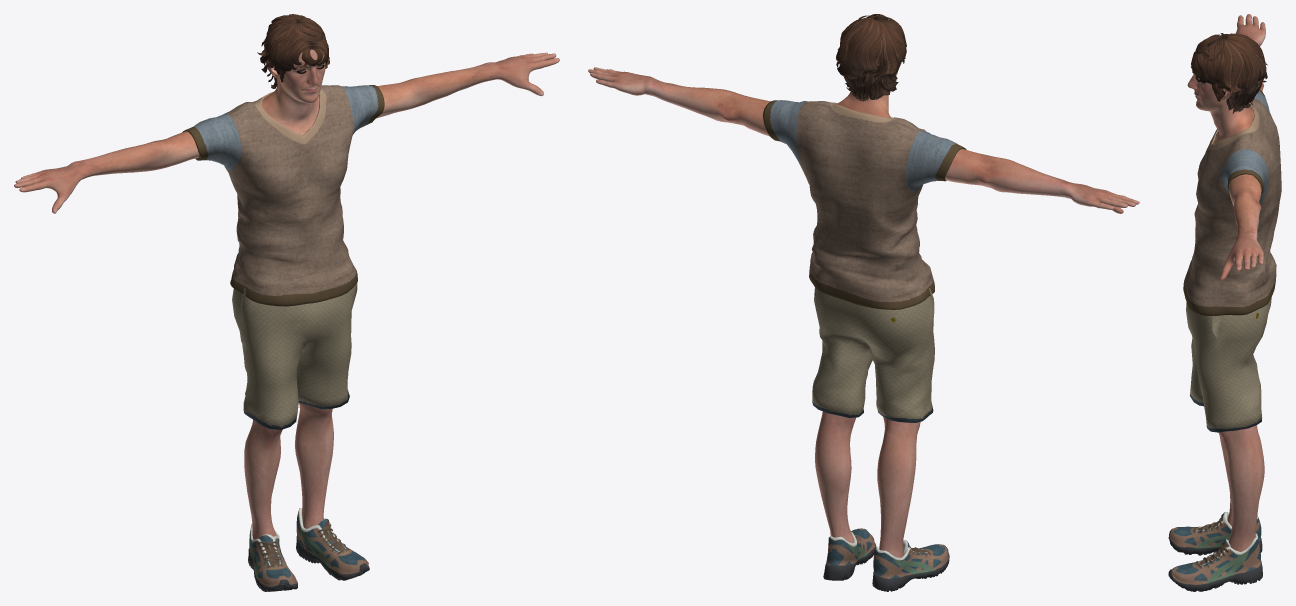
Rendered from male2.obj.
3 views of the same model, side by side, from view 1: azimuth 30°, elevation 25°; view 2: azimuth 150°, elevation 25°; view 3: azimuth 270°, elevation 25° (orthographic). The views are drawn at different scales.
Visible parts, largest first — view 1: Tops_Topsmesh.002, Body_Bodymesh.002, Bottoms_Bottomsmesh.002, Shoes_Shoesmesh.002, Hair_Hairmesh.002; view 2: Tops_Topsmesh.002, Body_Bodymesh.002, Bottoms_Bottomsmesh.002, Hair_Hairmesh.002, Shoes_Shoesmesh.002; view 3: Tops_Topsmesh.002, Body_Bodymesh.002, Bottoms_Bottomsmesh.002, Shoes_Shoesmesh.002, Hair_Hairmesh.002.
Part boxes in pixels (bbox=[...]): Tops_Topsmesh.002: bbox=[182, 85, 384, 306]; Body_Bodymesh.002: bbox=[14, 49, 559, 539]; Bottoms_Bottomsmesh.002: bbox=[232, 282, 357, 429]; Shoes_Shoesmesh.002: bbox=[248, 508, 369, 591]; Hair_Hairmesh.002: bbox=[257, 14, 329, 88]; Tops_Topsmesh.002: bbox=[763, 100, 966, 309]; Body_Bodymesh.002: bbox=[588, 67, 1139, 557]; Bottoms_Bottomsmesh.002: bbox=[812, 288, 934, 422]; Hair_Hairmesh.002: bbox=[836, 14, 906, 101]; Shoes_Shoesmesh.002: bbox=[823, 528, 949, 591]; Tops_Topsmesh.002: bbox=[1183, 89, 1281, 315]; Body_Bodymesh.002: bbox=[1187, 14, 1265, 551]; Bottoms_Bottomsmesh.002: bbox=[1186, 297, 1271, 432]; Shoes_Shoesmesh.002: bbox=[1168, 512, 1262, 591]; Hair_Hairmesh.002: bbox=[1191, 33, 1267, 113].
Bounding box in the file's own units: 1.94 × 1.89 × 0.3632.
5 materials, 5 textured.
